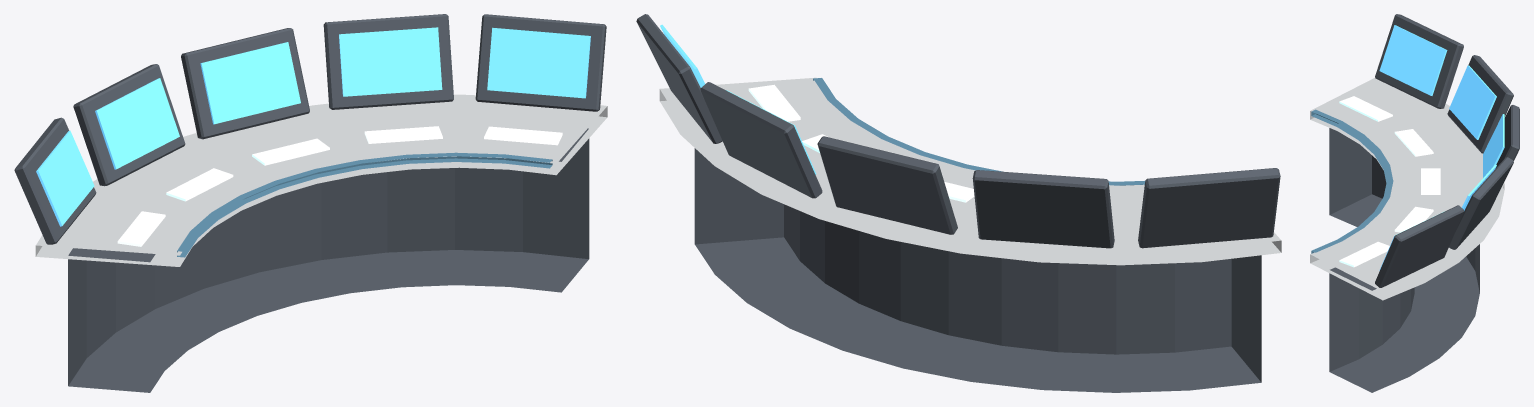
The model's file is spaceship-deck-kit-helm-console-d9667cd2__12564.glb.
3 renders of one model, left to right at view 1: azimuth 30°, elevation 25°; view 2: azimuth 150°, elevation 25°; view 3: azimuth 270°, elevation 25°, orthographic. The views are drawn at different scales.
Parts seen in each view (by area): view 1: helm-console; view 2: helm-console; view 3: helm-console.
Part boxes in pixels (x1=…): helm-console: x1=14, y1=14, x2=607, y2=392; helm-console: x1=636, y1=14, x2=1281, y2=392; helm-console: x1=1310, y1=14, x2=1519, y2=392.
Bounding box in the file's own units: 3.27 × 1.14 × 1.28.
